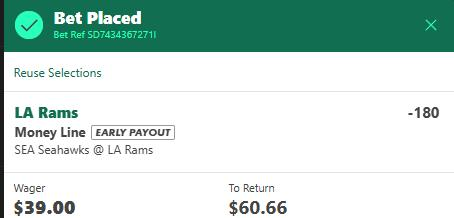game: (13, 142, 156, 158)
odds: (407, 105, 441, 121)
payout: (227, 198, 288, 217)
wager: (13, 198, 76, 216)
